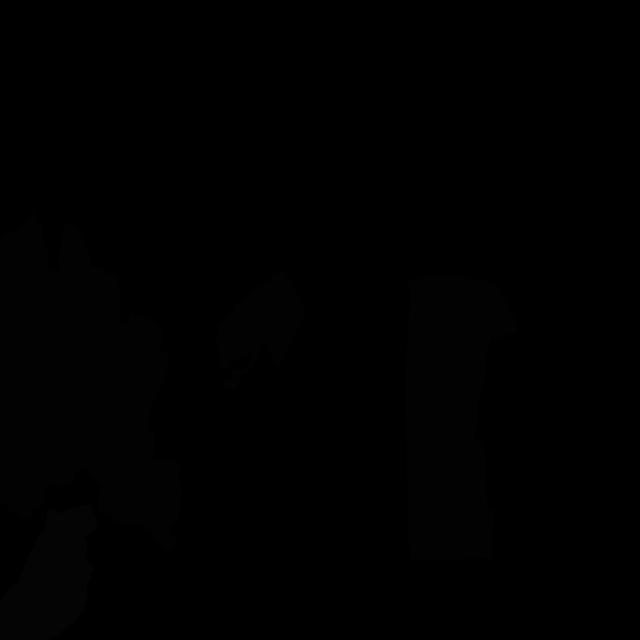cardboard: (0, 209, 182, 550), (404, 276, 516, 560), (216, 271, 306, 388), (112, 312, 169, 436)
soft_plastic: (0, 504, 98, 640)
